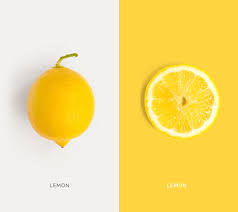lemon: (21, 49, 106, 158)
